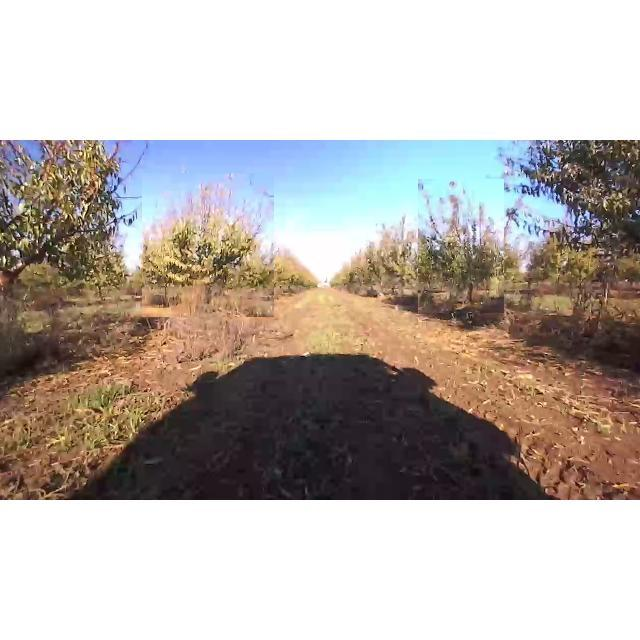direk: (0, 142, 160, 330), (496, 142, 640, 298), (142, 173, 274, 317), (418, 179, 504, 313), (366, 208, 424, 302)
